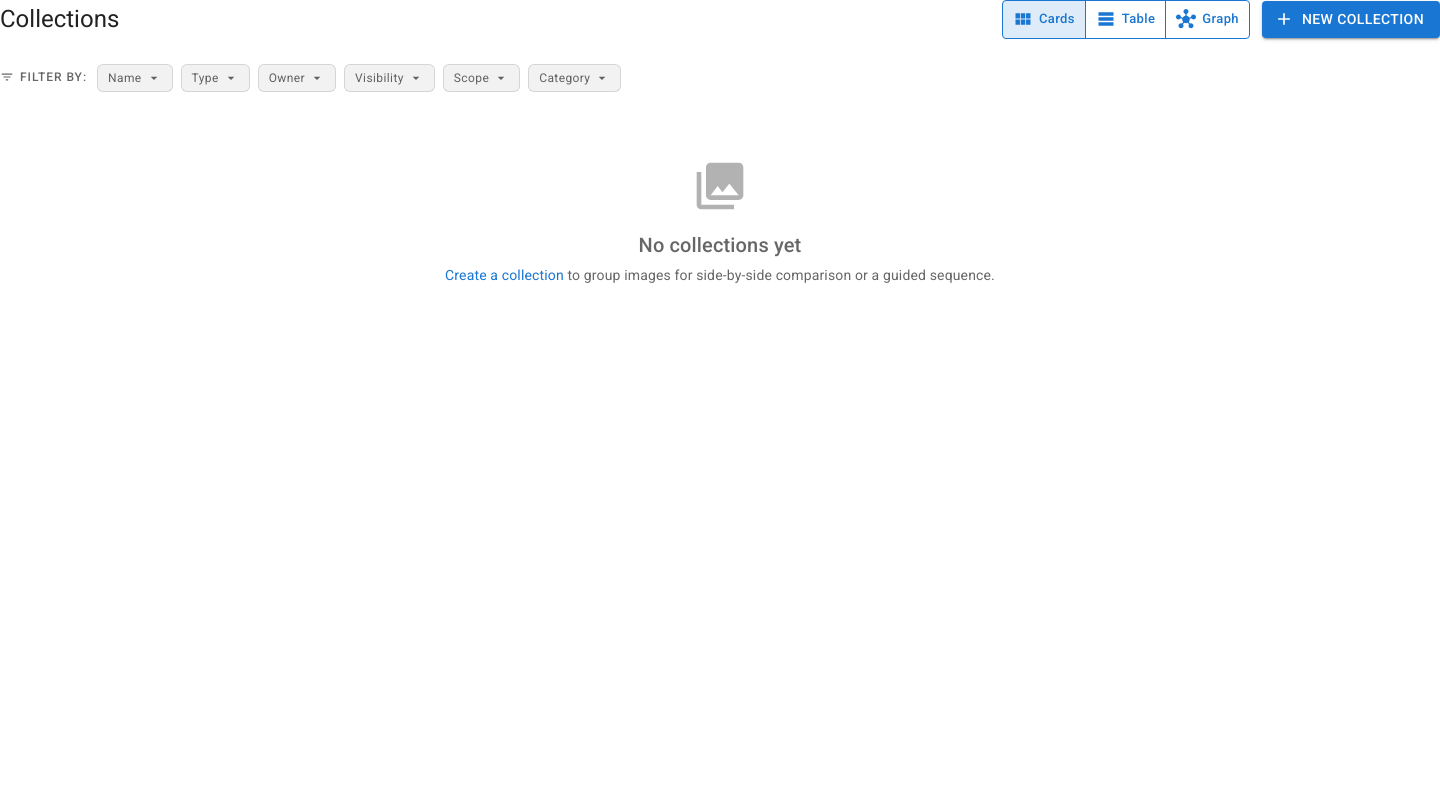
CollectionsPage › list states › opens the create dialog from the empty-state link
The image size is (1440, 810).
Click the button "Create a collection".
click(504, 274)  # box 445,264 -> 564,284
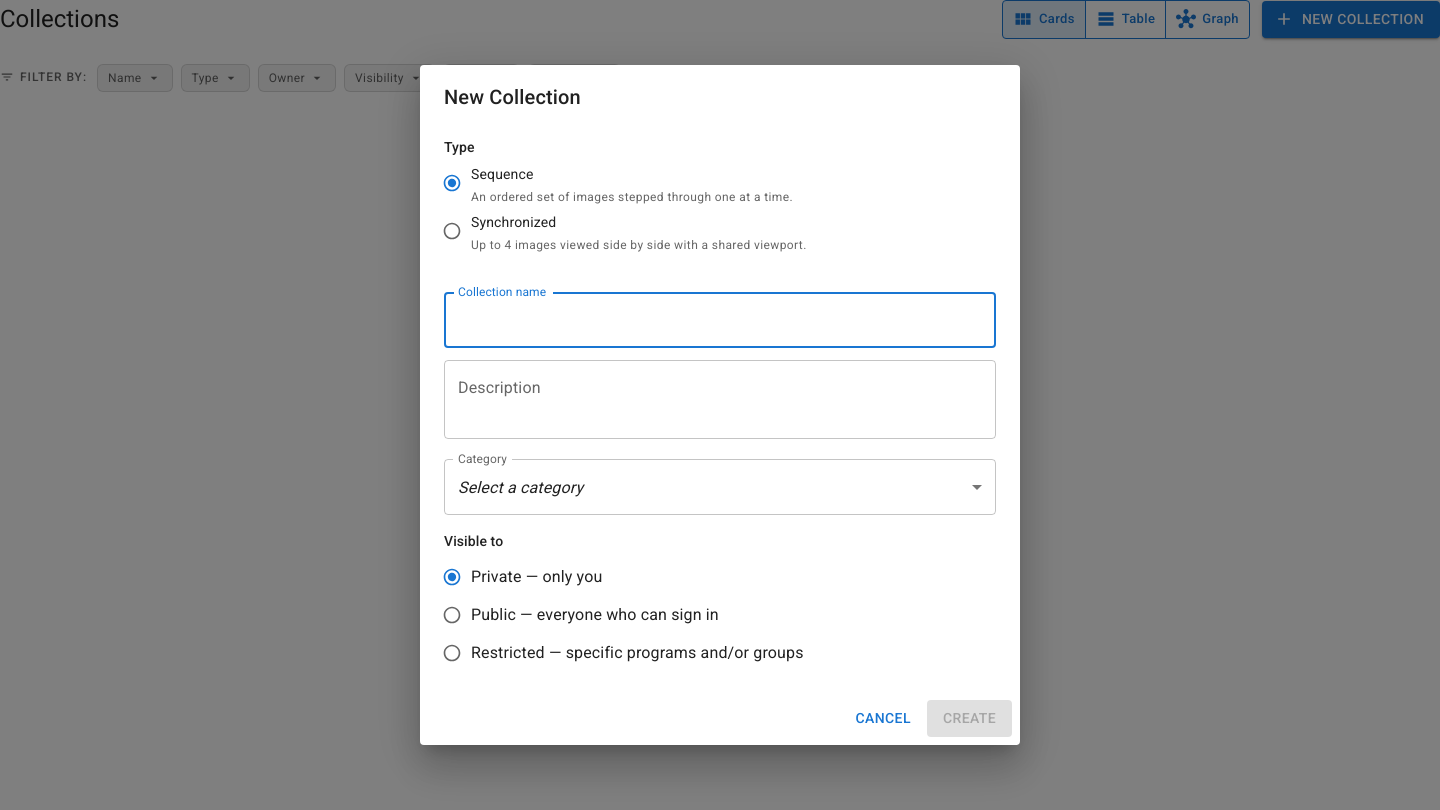
Expected: the heading "New Collection" is shown, 444,85 -> 581,109
